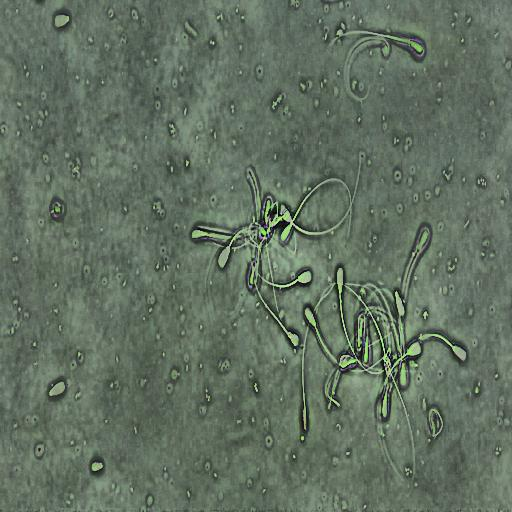folded-tail: (302, 286, 333, 429)
loose-head: (47, 377, 68, 399), (52, 9, 71, 31), (394, 288, 406, 320), (89, 458, 104, 475)
normal: (276, 146, 367, 242), (301, 298, 391, 379), (333, 260, 391, 377), (299, 284, 337, 444), (377, 331, 469, 390), (376, 338, 424, 451), (279, 176, 353, 243), (213, 222, 299, 275), (252, 276, 304, 353), (327, 28, 426, 66), (243, 242, 314, 291), (186, 224, 255, 246)
